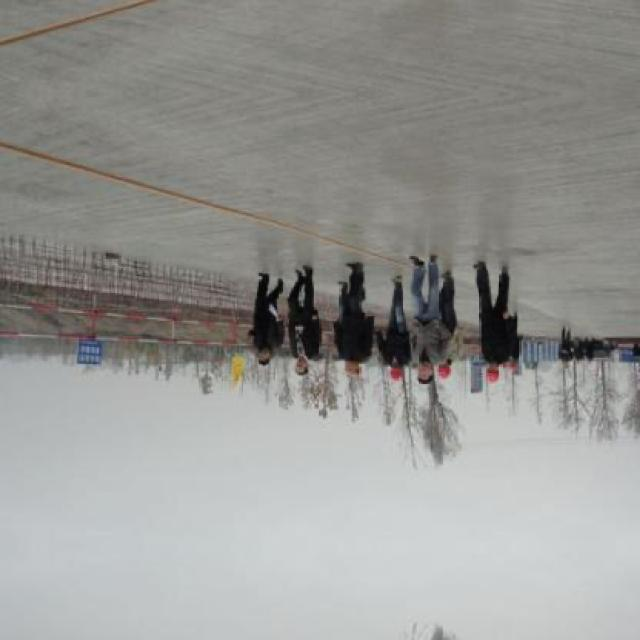con casco: (465, 349, 524, 398), (378, 348, 414, 391)
sin casco: (268, 325, 322, 403), (322, 332, 379, 392), (411, 339, 455, 381)
